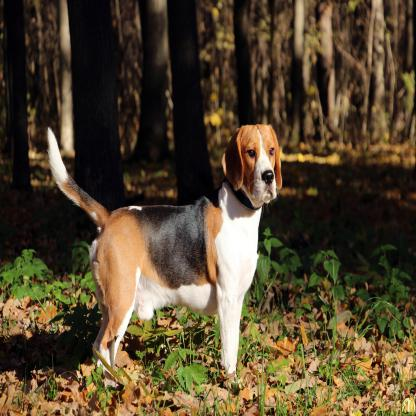Bigl: (43, 118, 284, 386)
